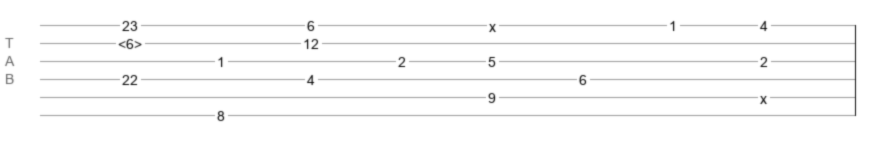1: (217, 54, 225, 64), (669, 18, 677, 28)
12: (303, 36, 319, 46)
2: (398, 54, 406, 64), (760, 54, 768, 64)
22: (122, 72, 138, 82)
23: (122, 18, 138, 28)
4: (307, 72, 315, 82), (760, 18, 768, 28)
5: (488, 54, 496, 64)
6: (307, 18, 315, 28), (579, 72, 587, 82)
8: (217, 108, 225, 118)
9: (488, 90, 496, 100)
harmonic: (118, 36, 142, 46)
x: (489, 19, 496, 27), (760, 91, 767, 99)
